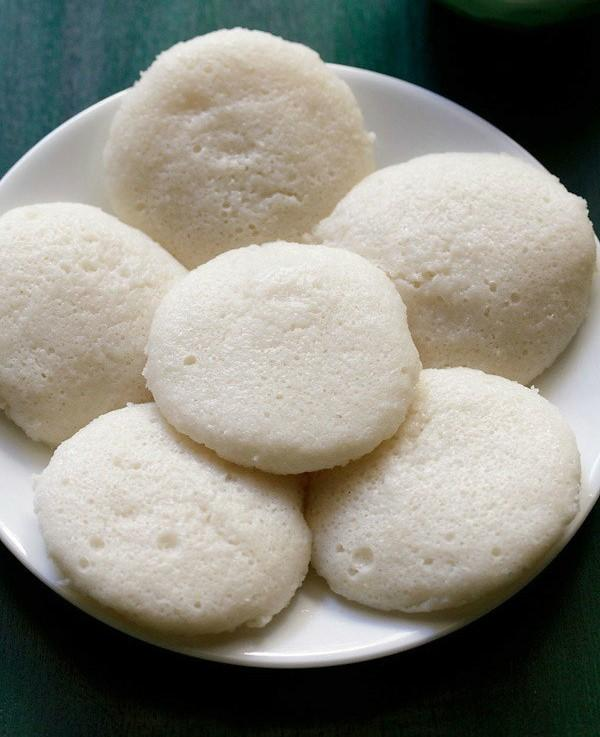Idli: (38, 401, 319, 638), (312, 368, 578, 616), (304, 157, 595, 383), (105, 28, 372, 270), (148, 243, 423, 472), (0, 206, 188, 446)
